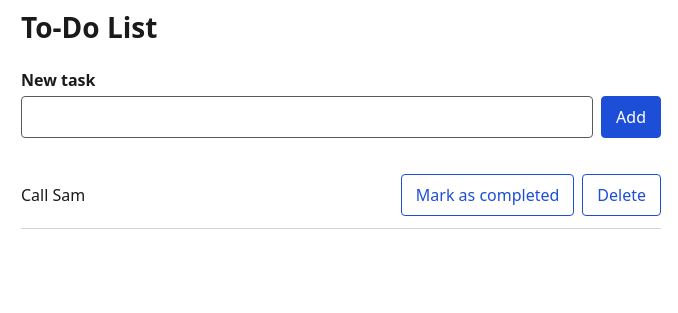
Test: TaskListPage — US1 add and view › US1-AS2 (T016): adding "Buy milk" puts it at the top as not completed and clears the field
The width and height of the screenshot is (678, 313).
Type "Buy milk" into the field labelled "New task".
click(307, 117); type("Buy milk")  # box [21,96,593,138]
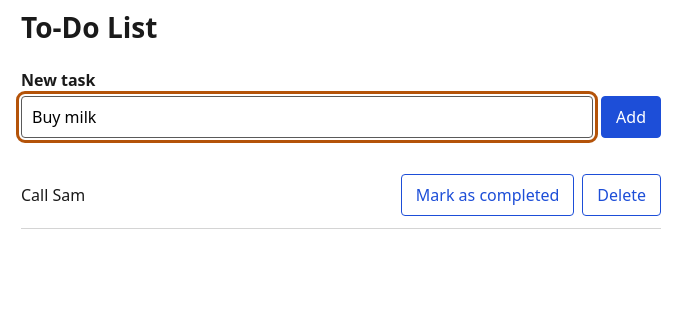
Click the button "Add".
click(631, 117)  # box [601,96,661,138]
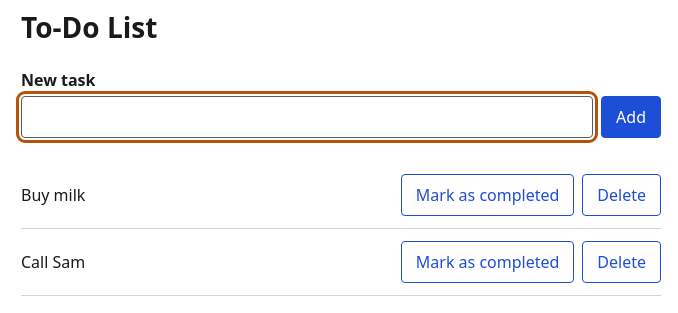
Check: the number of list items is 2, box [21,162,661,229]; [21,229,661,296]
Check: the text "Buy milk" is shown, box [21,184,85,206]
Check: the field labelled "New task" is empty, box [21,96,593,138]
